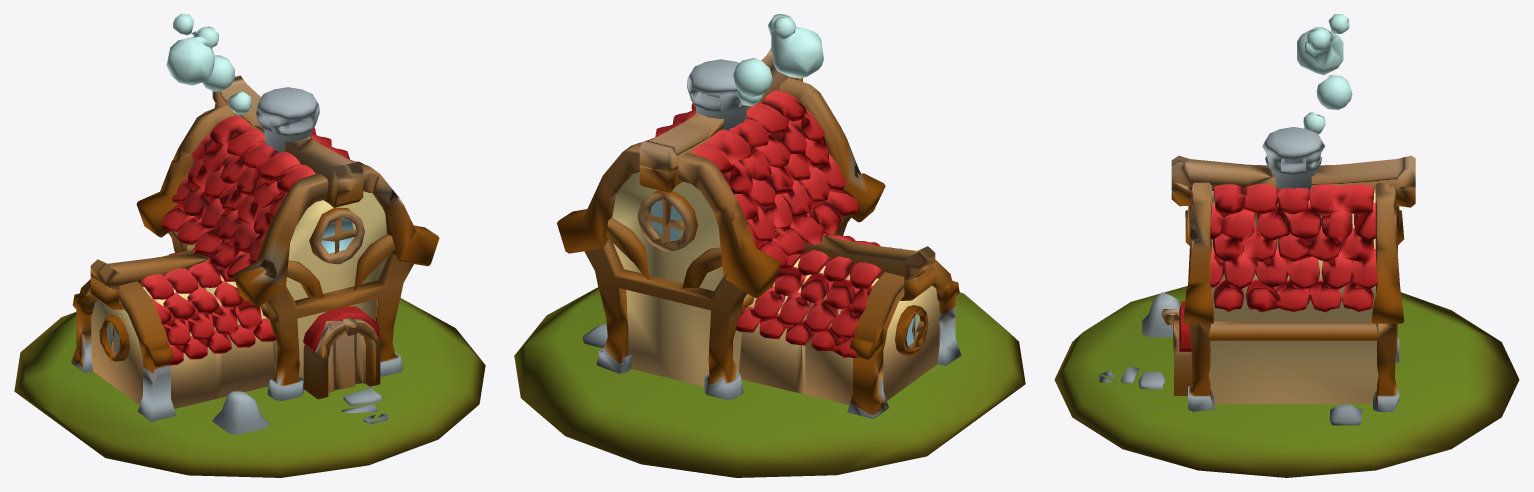
File: cottage.glb
3 renders of one model, left to right at view 1: azimuth 30°, elevation 25°; view 2: azimuth 150°, elevation 25°; view 3: azimuth 270°, elevation 25°, orthographic. The views are drawn at different scales.
Parts seen in each view (by area): view 1: Cube.007_Wood_0, Cube.007_Land_0, Cube.007_Rooftiles_0, Cube.007_Stone_0, Cube.007_Cottage_Base_0, Cube.007_Smoke_0, Cube.007_Window_0; view 2: Cube.007_Wood_0, Cube.007_Land_0, Cube.007_Rooftiles_0, Cube.007_Cottage_Base_0, Cube.007_Smoke_0, Cube.007_Stone_0, Cube.007_Window_0; view 3: Cube.007_Land_0, Cube.007_Wood_0, Cube.007_Rooftiles_0, Cube.007_Cottage_Base_0, Cube.007_Stone_0, Cube.007_Smoke_0.
Boxes of the visible parts, <box> form: Cube.007_Wood_0: <box>71,75,439,422</box>; Cube.007_Land_0: <box>14,298,485,477</box>; Cube.007_Rooftiles_0: <box>140,115,379,365</box>; Cube.007_Stone_0: <box>212,87,388,434</box>; Cube.007_Cottage_Base_0: <box>194,165,387,378</box>; Cube.007_Smoke_0: <box>166,14,251,114</box>; Cube.007_Window_0: <box>108,217,353,352</box>; Cube.007_Wood_0: <box>557,48,961,418</box>; Cube.007_Land_0: <box>514,287,1025,477</box>; Cube.007_Rooftiles_0: <box>641,90,901,358</box>; Cube.007_Cottage_Base_0: <box>612,172,741,386</box>; Cube.007_Smoke_0: <box>733,14,823,106</box>; Cube.007_Stone_0: <box>582,59,747,348</box>; Cube.007_Window_0: <box>651,201,918,345</box>; Cube.007_Land_0: <box>1054,286,1519,477</box>; Cube.007_Wood_0: <box>1161,155,1415,411</box>; Cube.007_Rooftiles_0: <box>1179,184,1377,351</box>; Cube.007_Cottage_Base_0: <box>1209,190,1378,403</box>; Cube.007_Stone_0: <box>1098,127,1361,425</box>; Cube.007_Smoke_0: <box>1297,14,1352,134</box>.
Bounding box in the file's own units: 8.48 × 7.14 × 8.7.
Materials: 7 (5 with a texture image).
